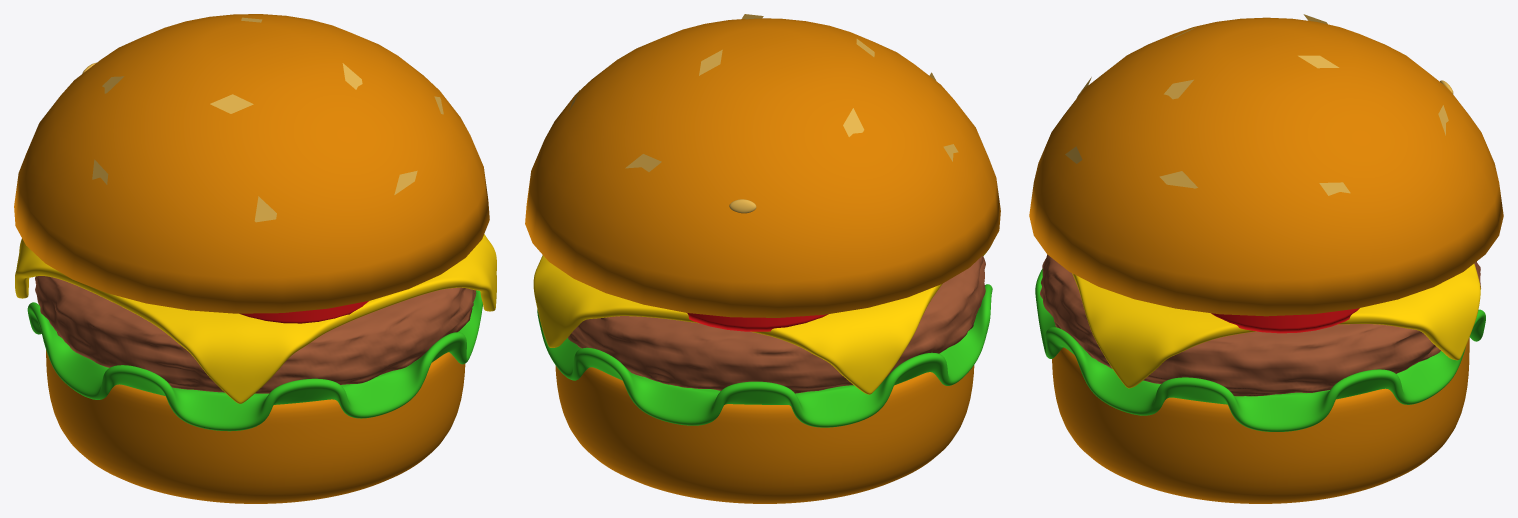
3 views of the same model, side by side, from view 1: azimuth 30°, elevation 25°; view 2: azimuth 150°, elevation 25°; view 3: azimuth 270°, elevation 25° (orthographic).
Parts seen in each view (by area): view 1: Sphere, Cylinder, Cylinder.001, Plane, Circle, Cylinder.002; view 2: Sphere, Cylinder, Cylinder.001, Circle, Plane, Cylinder.004; view 3: Sphere, Cylinder, Cylinder.001, Plane, Circle, Cylinder.003.
Boxes of the visible parts, box(x1,y1,x2,y2) form: Sphere: box(14, 14, 489, 313); Cylinder: box(46, 350, 465, 503); Cylinder.001: box(35, 276, 476, 393); Plane: box(15, 234, 496, 403); Circle: box(27, 290, 482, 431); Cylinder.002: box(239, 301, 368, 323); Sphere: box(525, 18, 1000, 317); Cylinder: box(555, 365, 974, 503); Cylinder.001: box(568, 255, 985, 393); Circle: box(537, 284, 992, 427); Plane: box(533, 243, 992, 394); Cylinder.004: box(687, 313, 828, 331); Sphere: box(1029, 17, 1503, 316); Cylinder: box(1052, 337, 1469, 503); Cylinder.001: box(1040, 254, 1480, 396); Plane: box(1072, 264, 1480, 388); Circle: box(1035, 268, 1485, 431); Cylinder.003: box(1211, 308, 1359, 333).
Bounding box in the file's own units: 0.342 × 0.3109 × 0.342.
